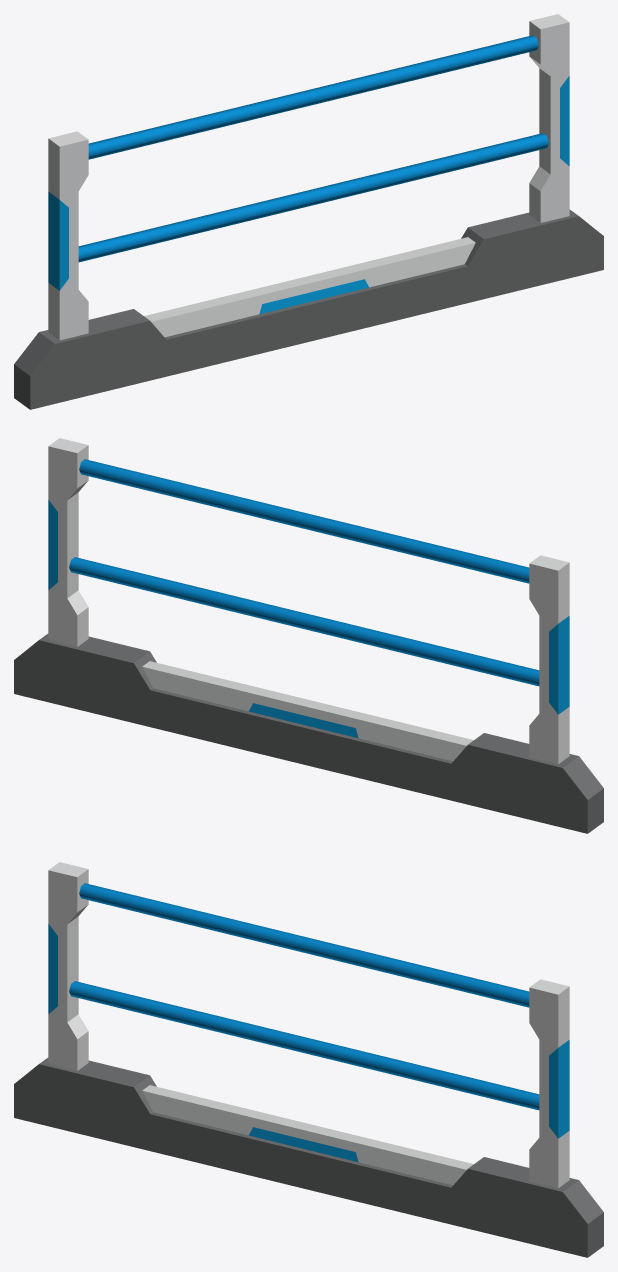
File: Fence_type_A_005.fbx
3 renders of one model, top to bottom at view 1: azimuth 30°, elevation 25°; view 2: azimuth 150°, elevation 25°; view 3: azimuth 330°, elevation 25°, orthographic.
Visible parts, largest first — view 1: Fence_type_A_005; view 2: Fence_type_A_005; view 3: Fence_type_A_005.
Boxes of the visible parts, bbox=[...] form: Fence_type_A_005: bbox=[14, 14, 603, 409]; Fence_type_A_005: bbox=[14, 438, 603, 833]; Fence_type_A_005: bbox=[14, 862, 603, 1257].
Size of the model in its own units: 337 by 16.53 by 142.
